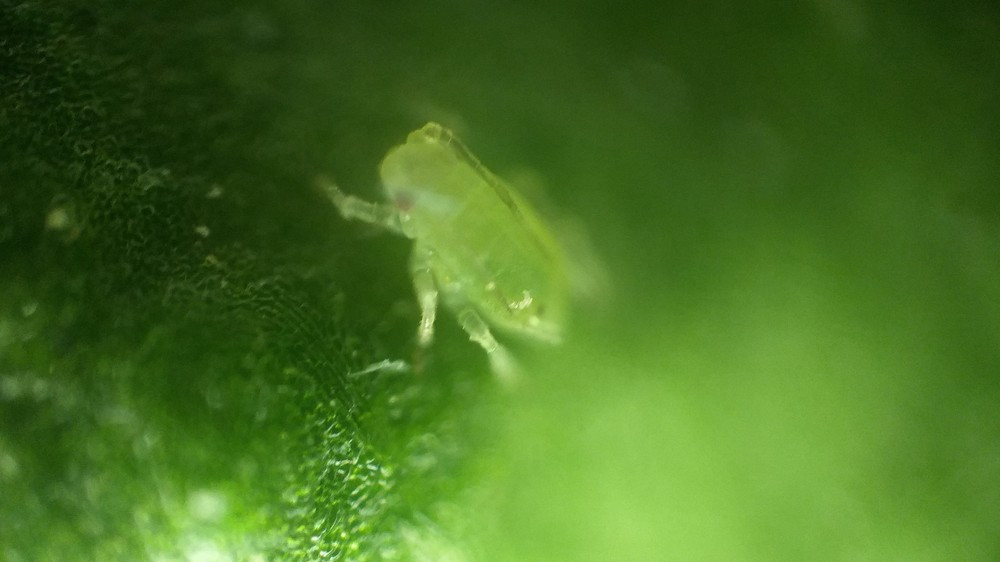Pulgon: (304, 113, 654, 419)
